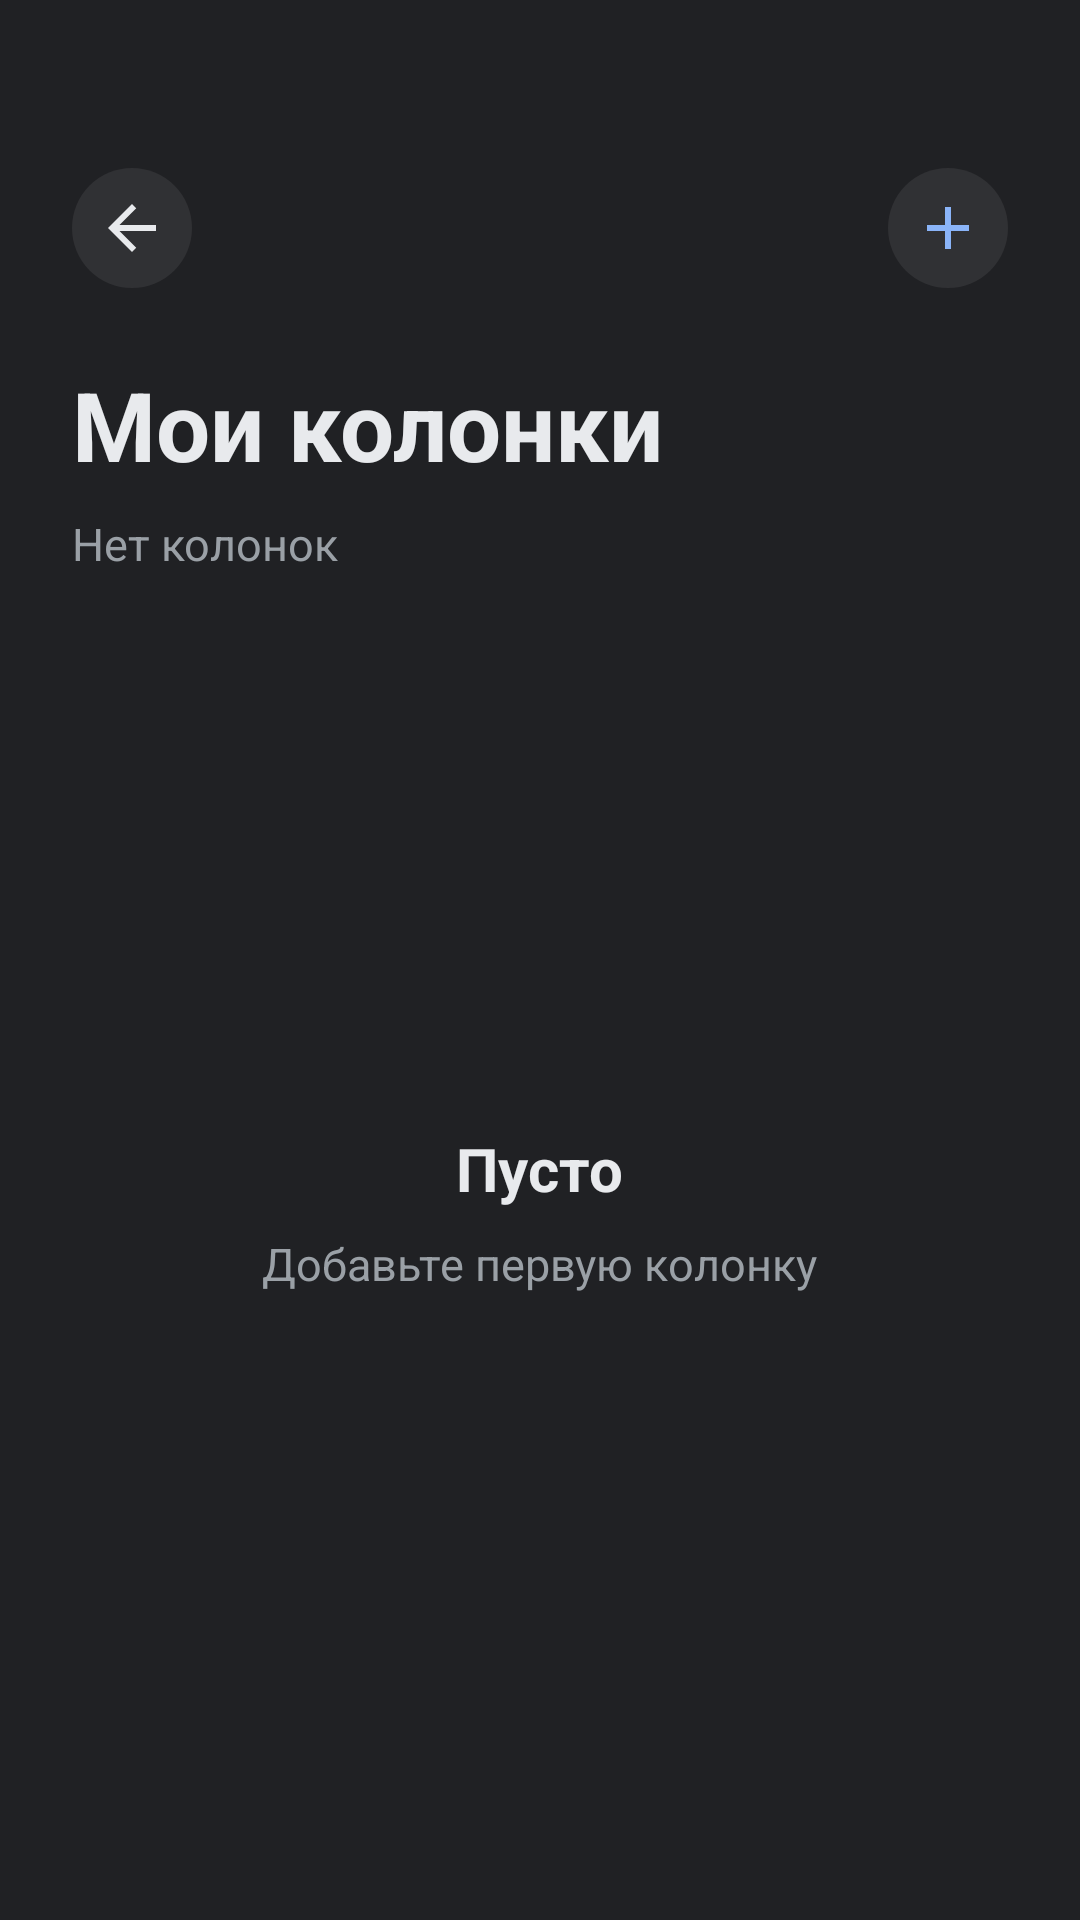

Icons on this 1080w x 1920h Android screen, each with the point to tap as (x,y):
add: (948,228)
back: (132,228)
